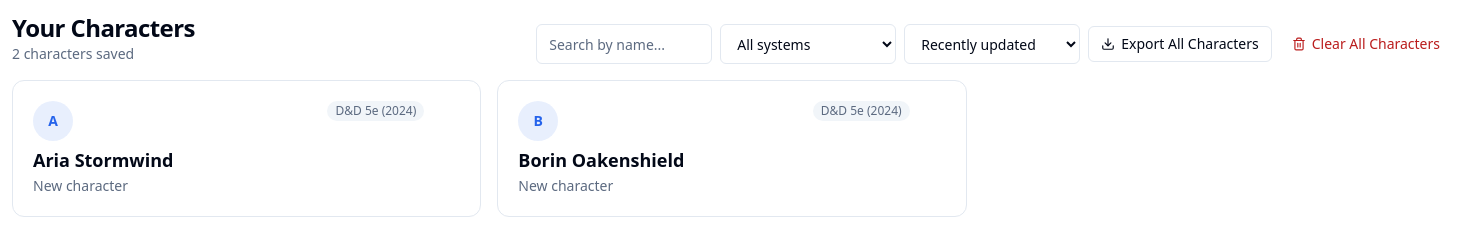
CharacterListView › shows an empty note instead of the grid when nothing matches
This screenshot has width=1464, height=234.
Step 1. Type "no such hero" into the search field titled "Search characters" → (624, 44), box [536,24,712,64]
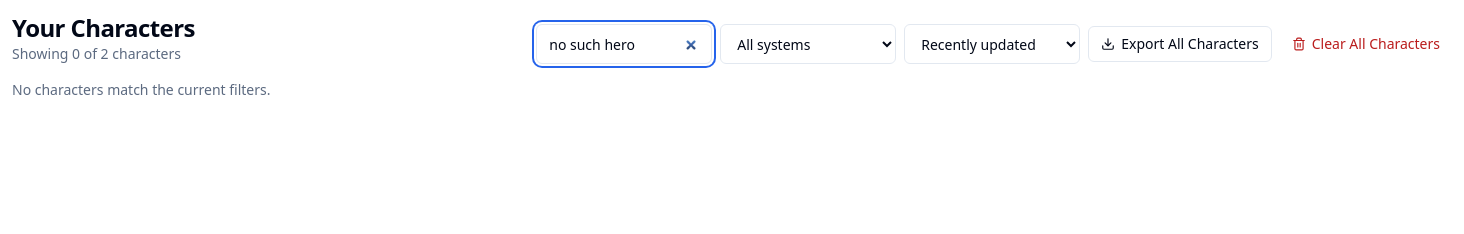
Check: the text "No characters match the current filters." is shown, box [12,80,270,99]
Check: the button "Aria Stormwind" is gone
